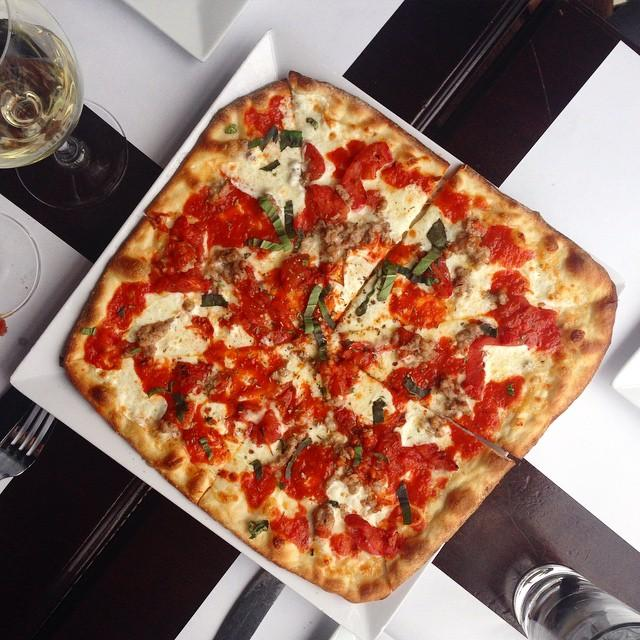basil: (358, 219, 448, 314), (246, 196, 302, 252), (304, 284, 335, 359), (248, 125, 302, 150), (184, 426, 218, 462), (285, 438, 313, 478), (402, 375, 432, 397), (397, 483, 412, 525), (202, 292, 228, 307), (372, 398, 387, 423), (249, 520, 269, 538), (260, 158, 280, 170), (352, 445, 362, 467), (254, 460, 264, 481), (485, 322, 497, 338), (506, 382, 516, 397), (128, 348, 144, 357), (80, 328, 96, 336), (116, 306, 126, 317), (328, 501, 338, 508), (278, 482, 284, 489)
pizza: (65, 72, 615, 600)
